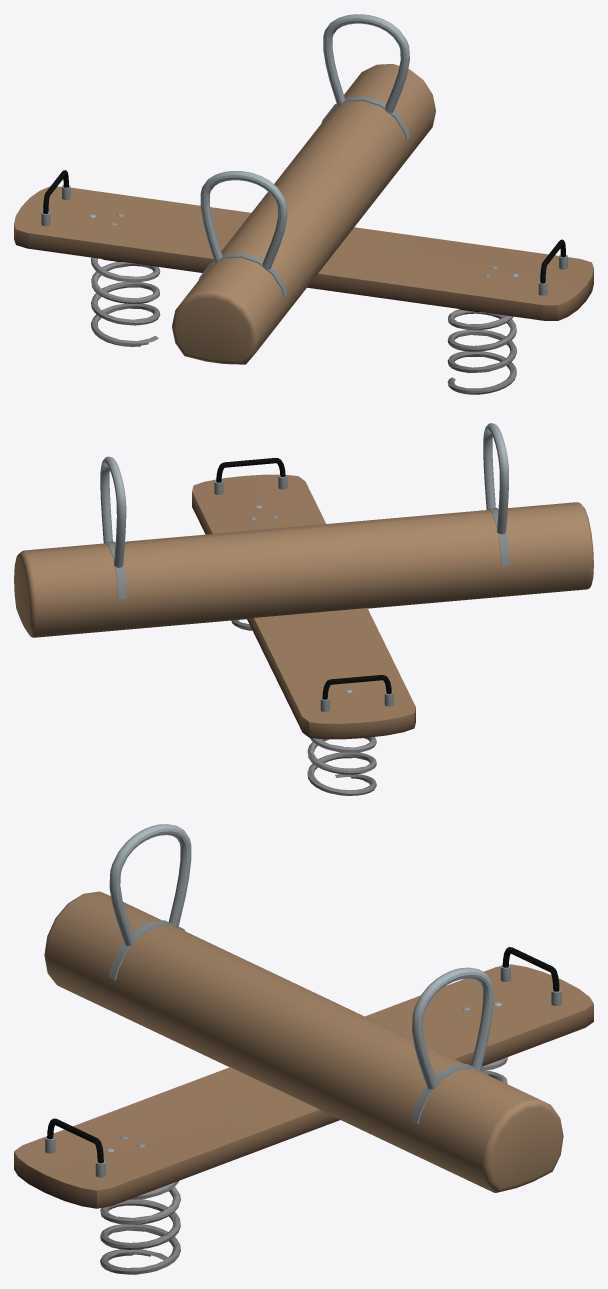
Rendered from swing 1.fbx.
The picture shows the model from 3 angles, top to bottom: view 1: azimuth 30°, elevation 25°; view 2: azimuth 150°, elevation 25°; view 3: azimuth 270°, elevation 25°; orthographic projection. The views are drawn at different scales.
Parts seen in each view (by area): view 1: BézierCurve.004; view 2: BézierCurve.004; view 3: BézierCurve.004.
Boxes of the visible parts, box(x1,y1,x2,y2) form: BézierCurve.004: box(14, 14, 593, 394); BézierCurve.004: box(14, 423, 593, 795); BézierCurve.004: box(14, 824, 593, 1274).
Bounding box in the file's own units: 274 × 166 × 281.
